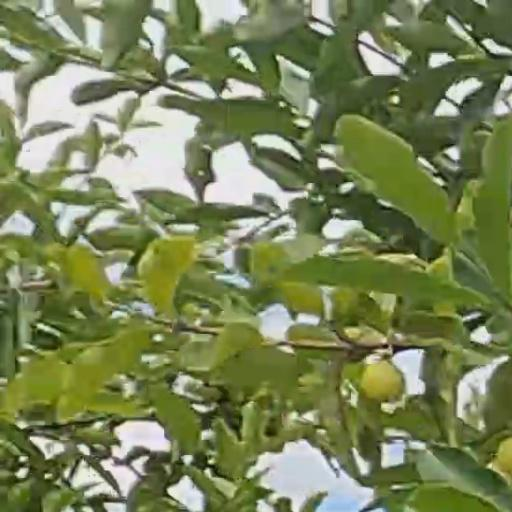acerola_verde: (361, 362, 402, 401)
